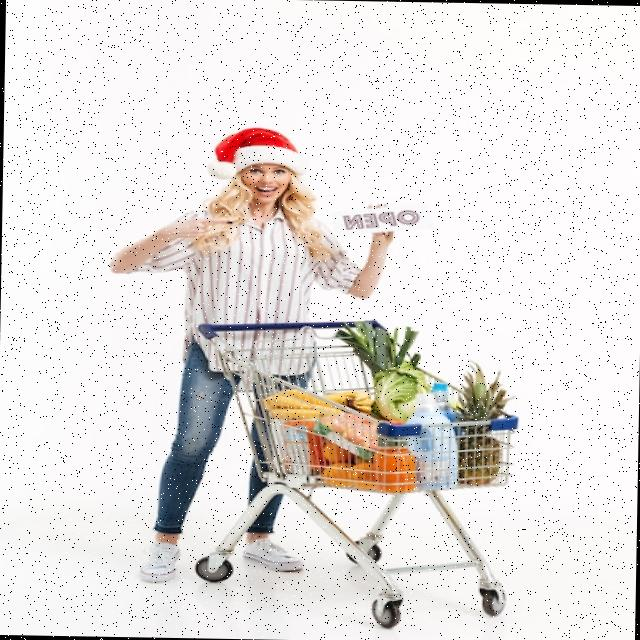Person: (106, 125, 397, 586)
